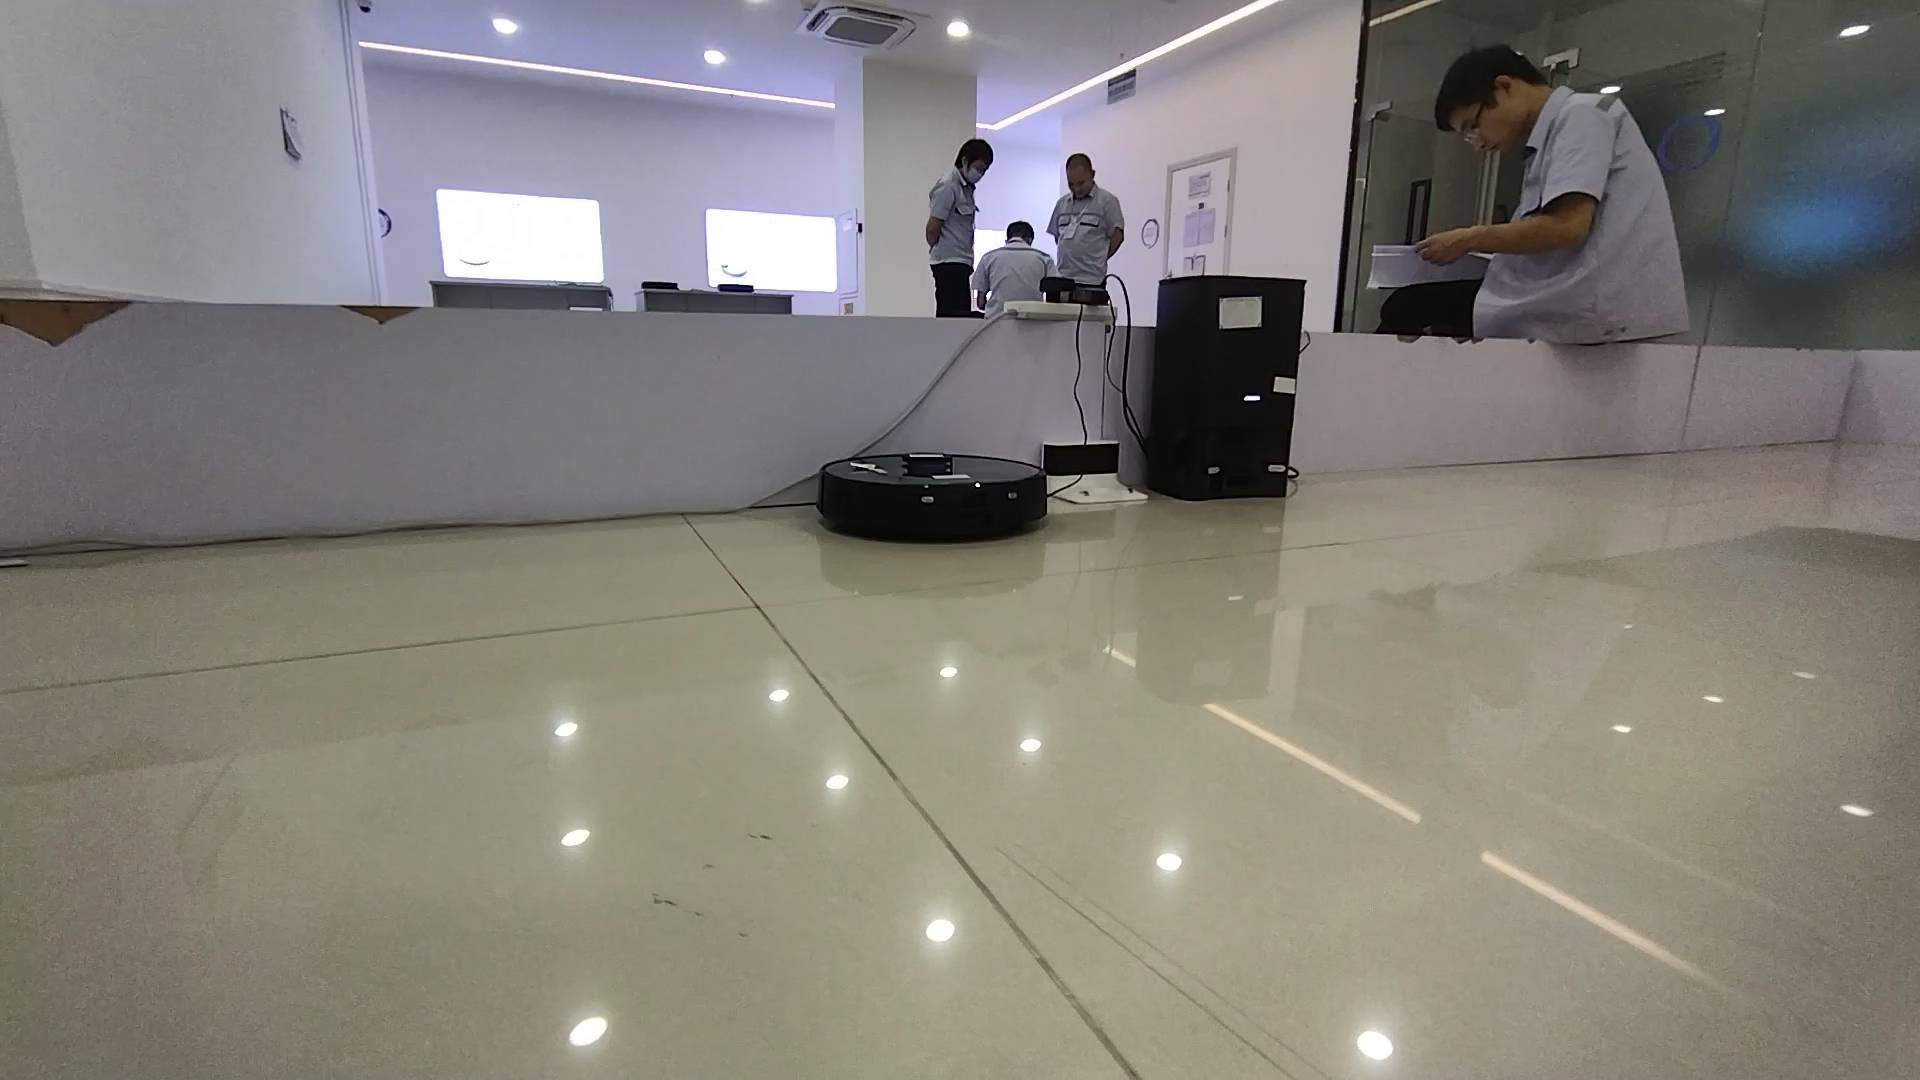dust collecting barrel: (1153, 272, 1309, 498)
recharge seat: (1036, 442, 1153, 506)
